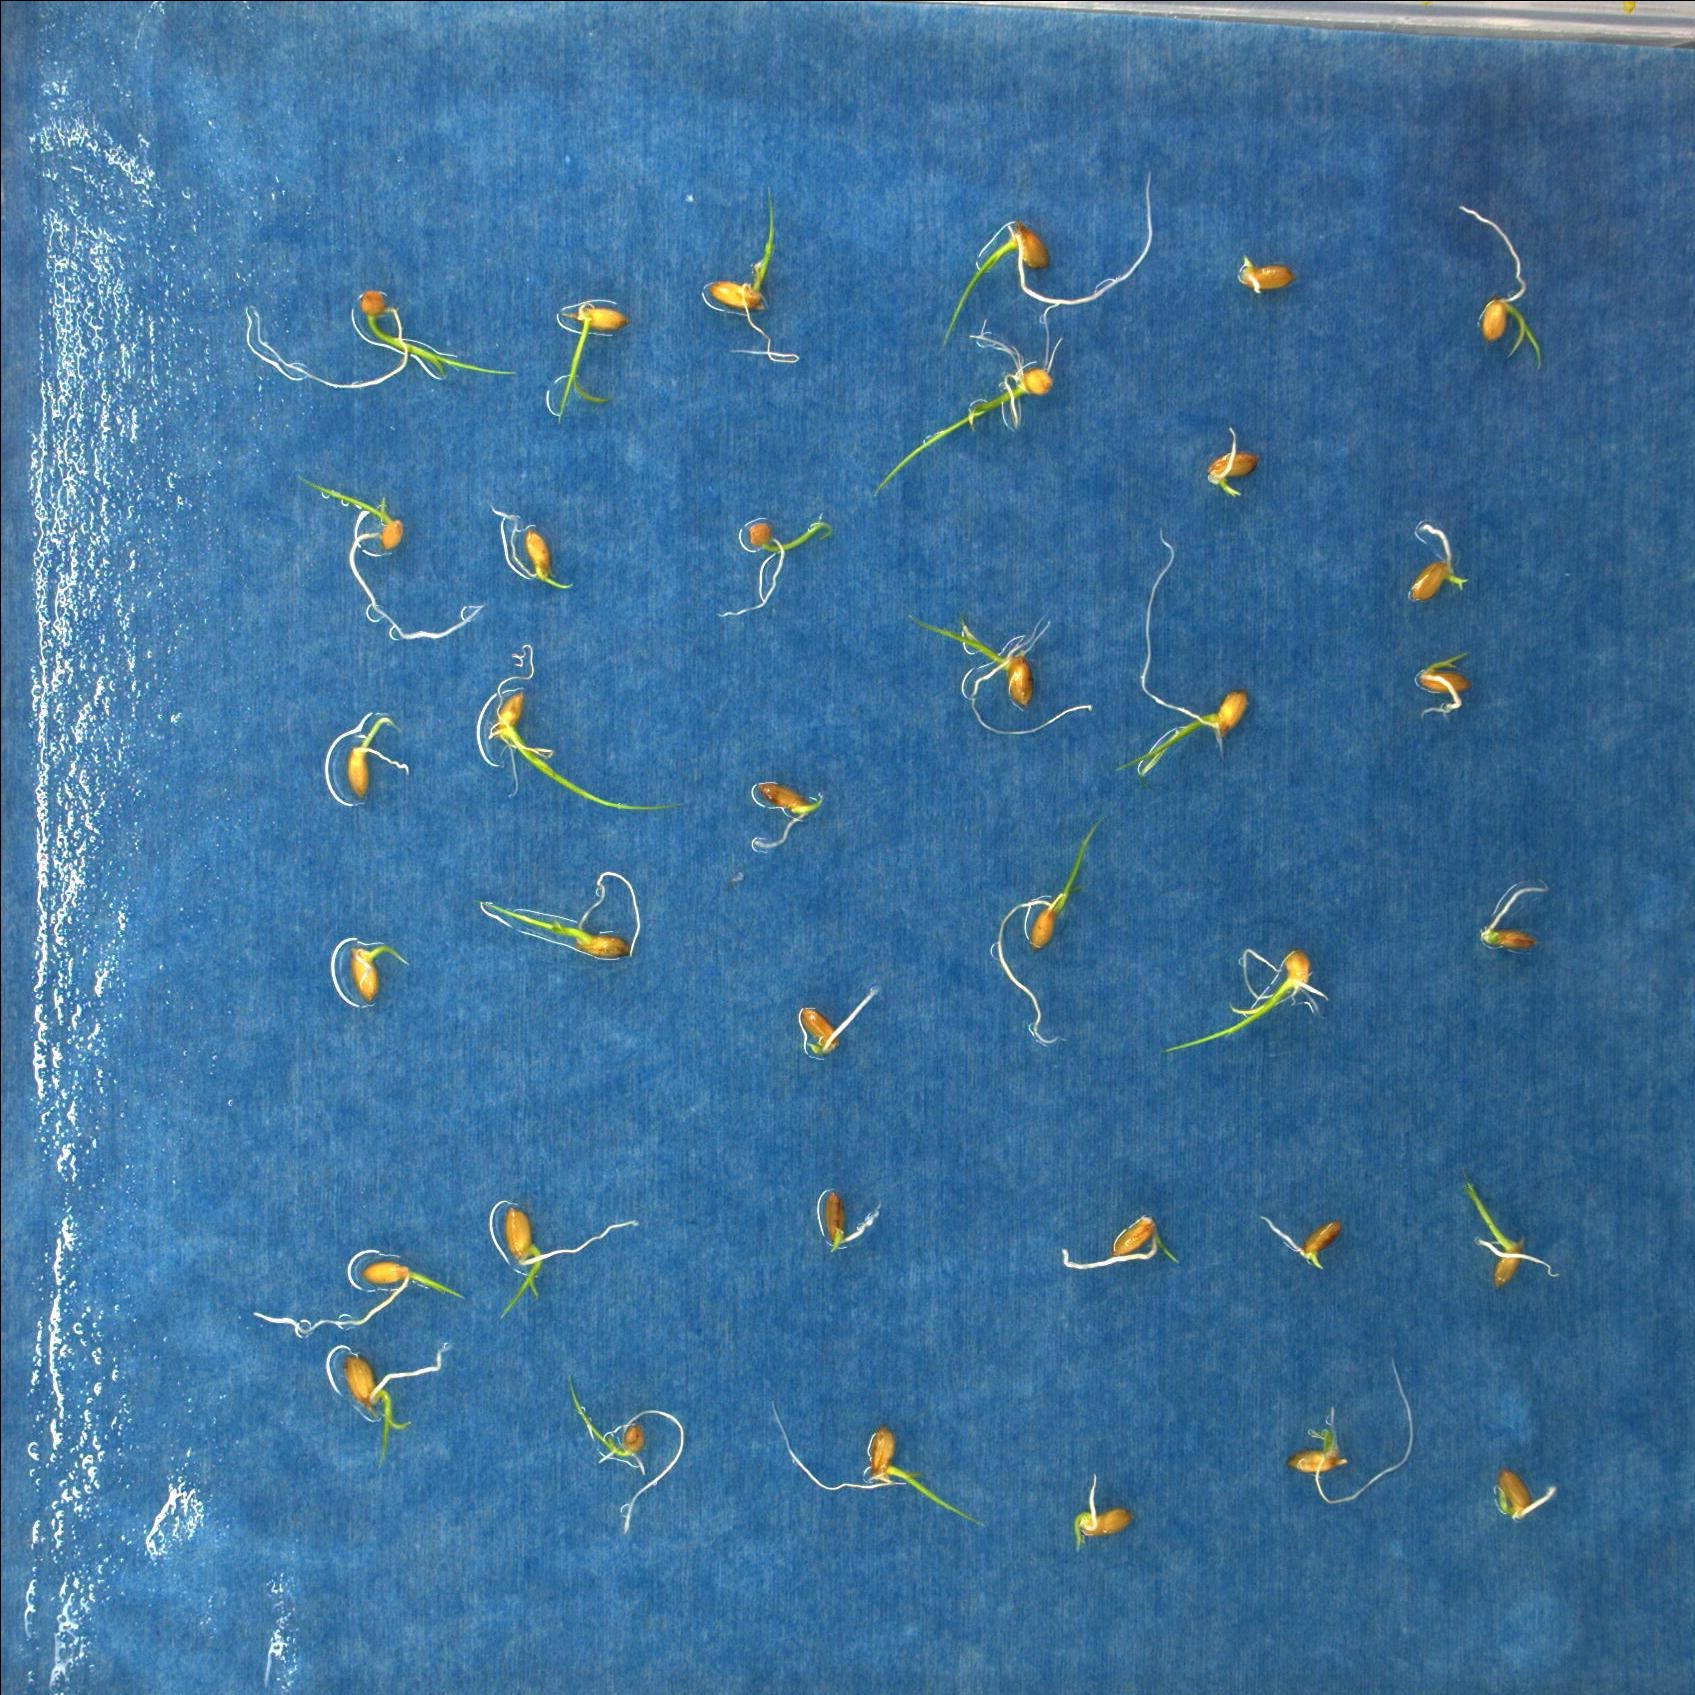not sprout: (1468, 869, 1557, 961), (1397, 508, 1475, 608), (1257, 1194, 1347, 1281), (1059, 1465, 1135, 1555), (1197, 411, 1263, 511), (806, 1183, 886, 1263), (1220, 247, 1319, 309), (1487, 1464, 1575, 1529)
sprout: (927, 169, 1170, 354), (233, 265, 509, 404), (865, 320, 1071, 498), (762, 1391, 995, 1537), (469, 652, 671, 820), (1125, 528, 1257, 778), (298, 469, 486, 638), (990, 802, 1111, 1049), (902, 596, 1094, 734), (1447, 199, 1562, 385), (309, 1338, 445, 1492), (1166, 945, 1336, 1065), (258, 1245, 466, 1340), (483, 1194, 636, 1321), (478, 858, 643, 976), (692, 185, 798, 366), (1287, 1354, 1416, 1501), (563, 1388, 689, 1532), (712, 504, 834, 621), (528, 290, 632, 421), (1465, 1173, 1568, 1298), (1048, 1200, 1178, 1284), (335, 703, 413, 818), (740, 775, 837, 860), (775, 992, 880, 1066), (494, 503, 571, 598), (1406, 652, 1495, 730), (338, 931, 411, 1003)
